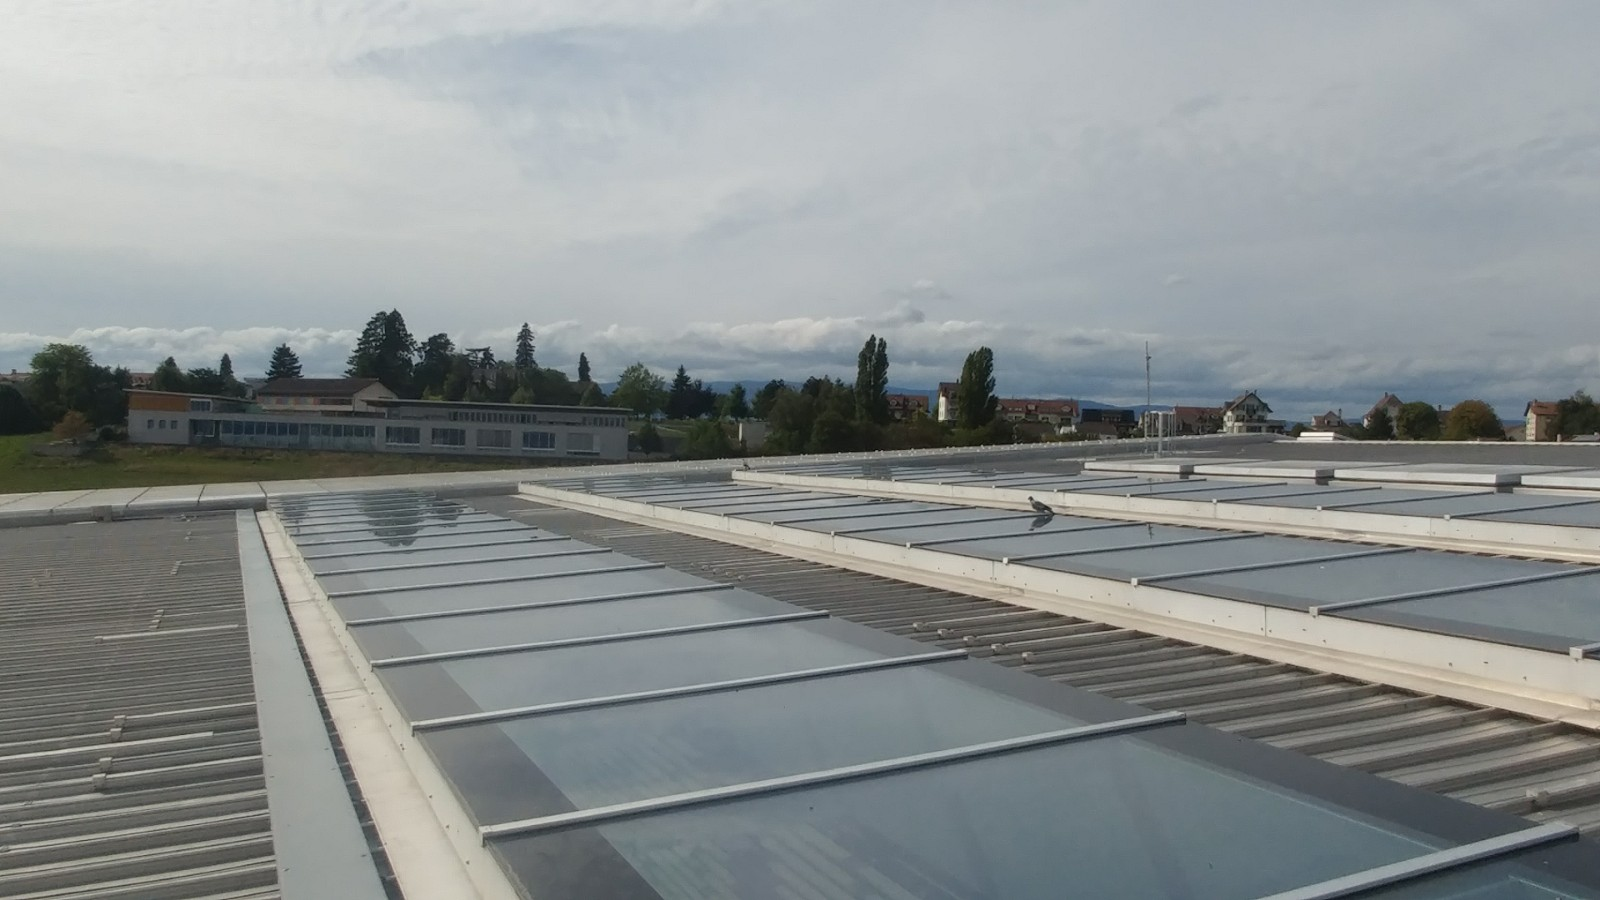Pigeon: (1022, 491, 1057, 518)
